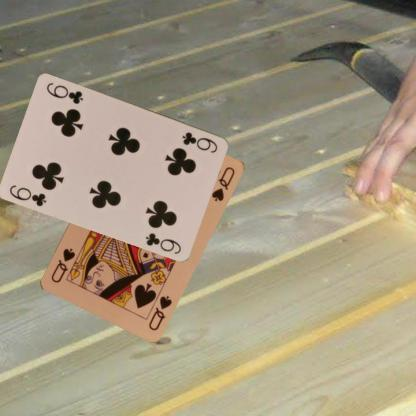6c: (7, 182, 48, 208), (180, 129, 220, 154)
Qs: (146, 292, 173, 332)
